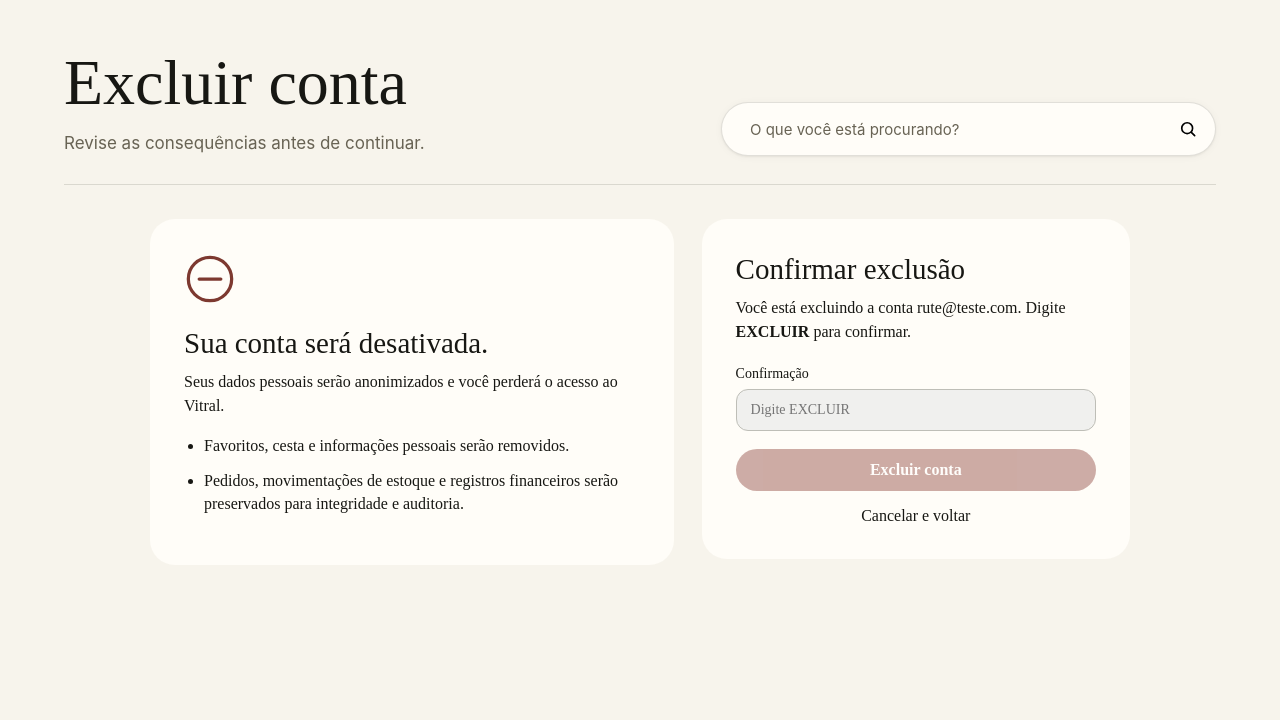
cobertura de branches restantes › exibe pagina de exclusao de conta com erro quando a exclusao falha
In the field labelled "Confirmação": (916, 410) [736,389,1096,431], type "EXCLUIR"
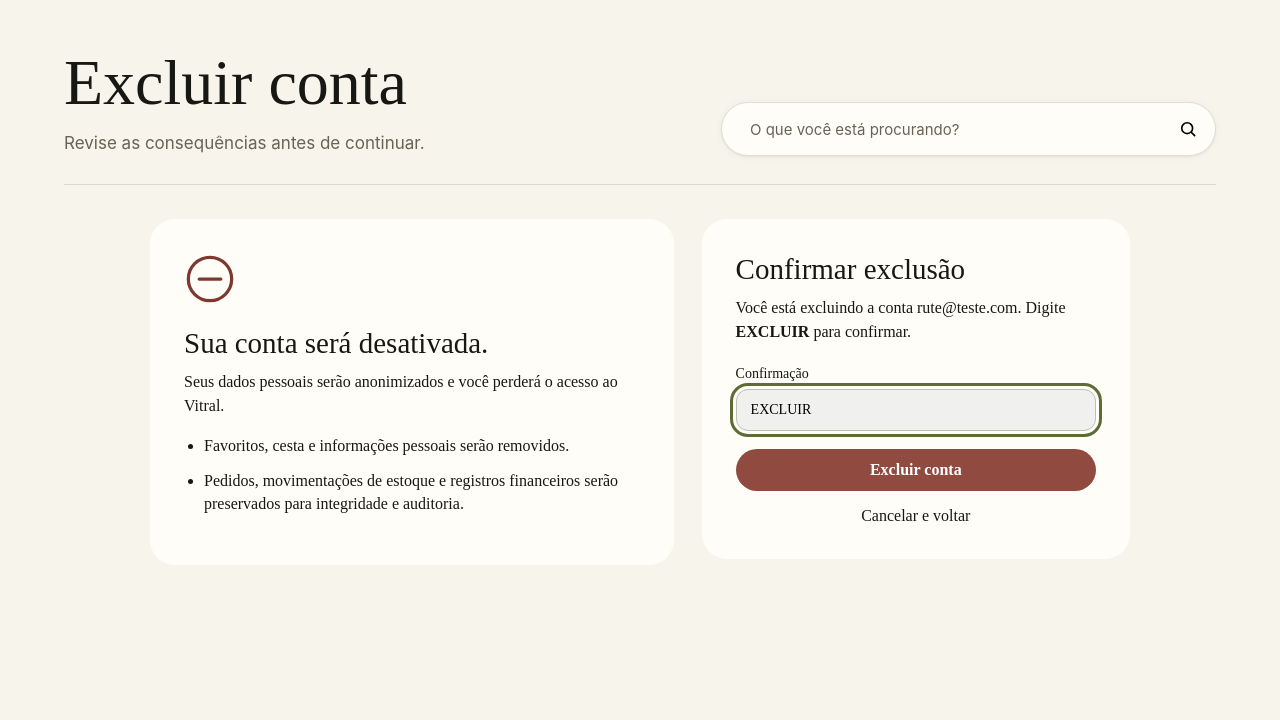
Click the button "Excluir conta": (916, 470) [736,449,1096,491]
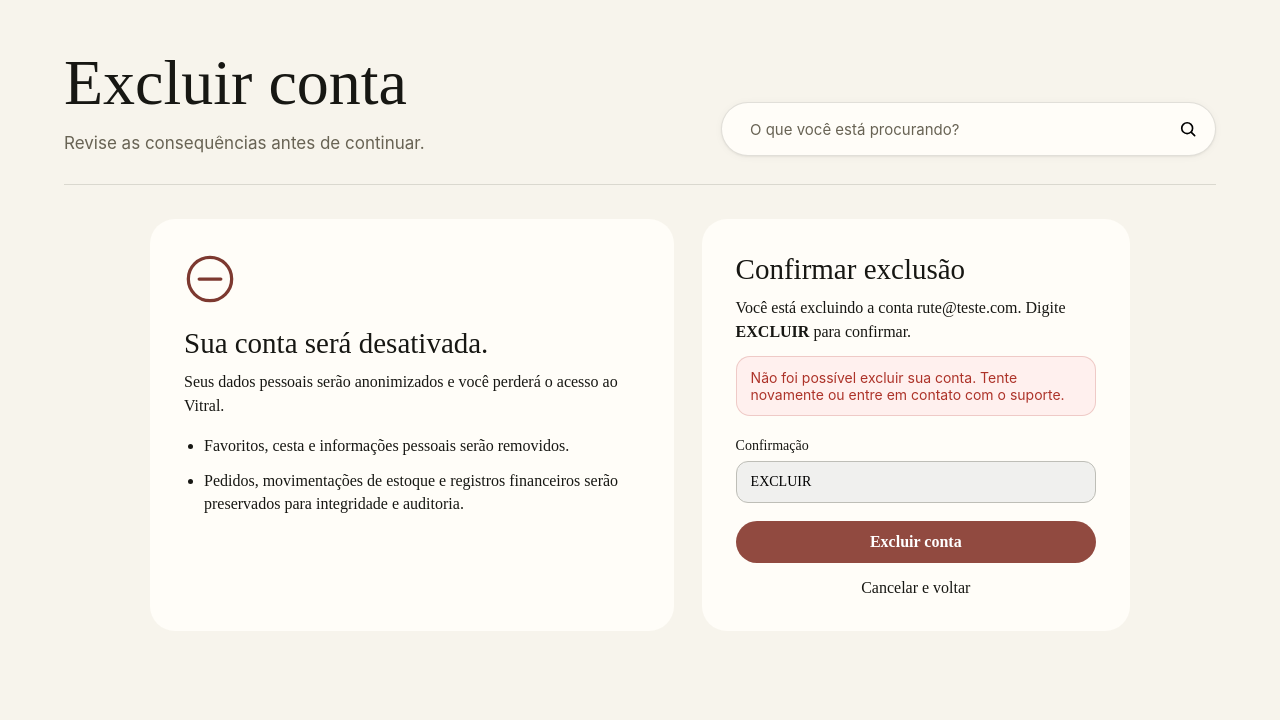
Expected: the message shows "Não foi possível excluir sua conta. Tente novamente ou entre em contato com o suporte.", [751,369,1065,403]
